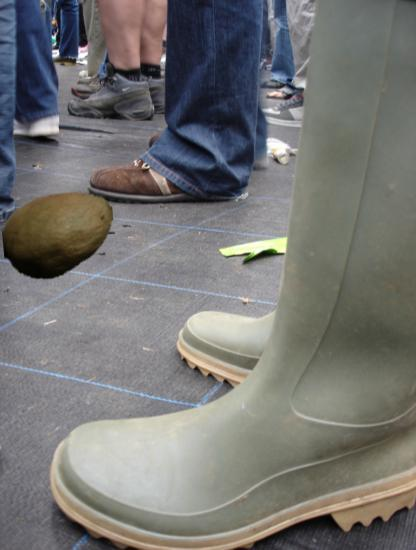Papaya: (3, 180, 115, 292)
